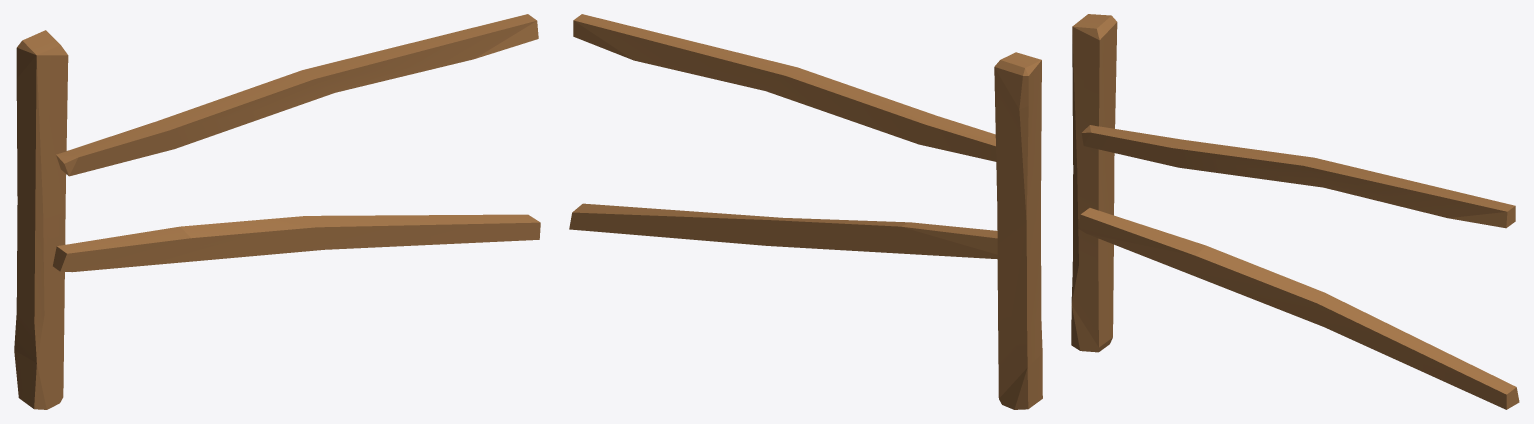
Rendered from Fence_WoodA_G.fbx.
3 views of the same model, side by side, from view 1: azimuth 30°, elevation 25°; view 2: azimuth 150°, elevation 25°; view 3: azimuth 330°, elevation 25° (orthographic). The views are drawn at different scales.
Visible parts, largest first — view 1: Fence_WoodA_G; view 2: Fence_WoodA_G; view 3: Fence_WoodA_G.
Part boxes in pixels (<box>): Fence_WoodA_G: <box>14,14,540,409</box>; Fence_WoodA_G: <box>569,14,1042,409</box>; Fence_WoodA_G: <box>1071,14,1519,409</box>.
Size of the model in its own units: 221 by 154 by 23.28.
